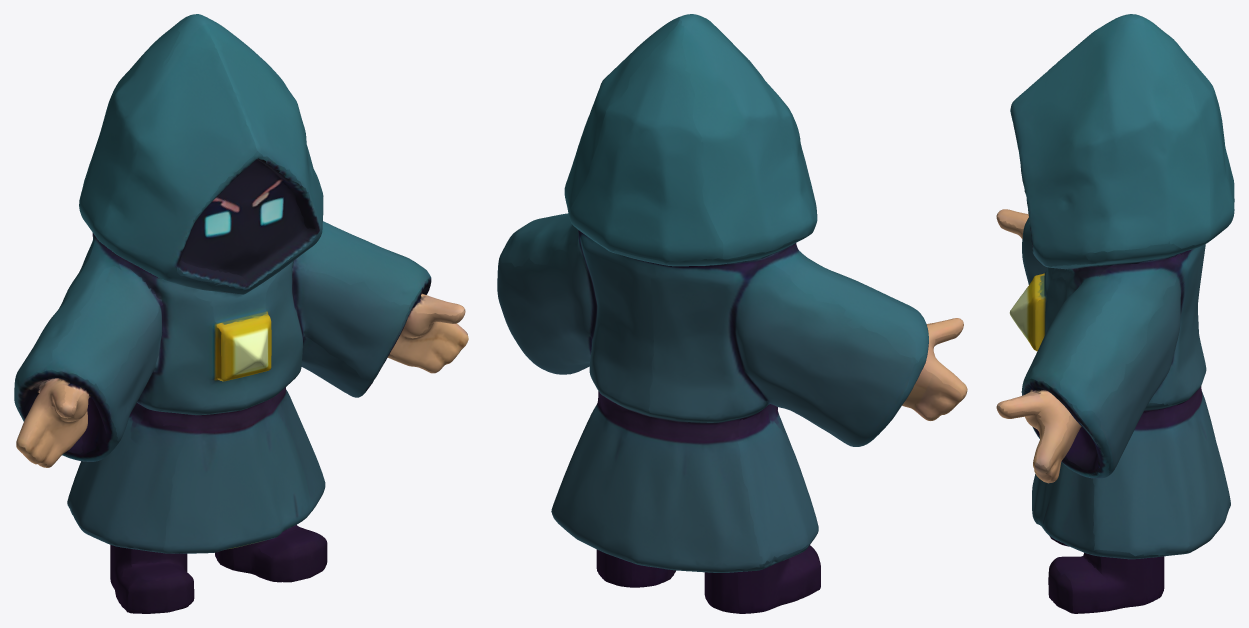
File: mage-voxel-mesh.glb
3 renders of one model, left to right at view 1: azimuth 30°, elevation 25°; view 2: azimuth 150°, elevation 25°; view 3: azimuth 270°, elevation 25°, orthographic. The views are drawn at different scales.
Visible parts, largest first — view 1: tmpeg7h5f6z.ply; view 2: tmpeg7h5f6z.ply; view 3: tmpeg7h5f6z.ply.
Boxes of the visible parts, box(x1,y1,x2,y2) form: tmpeg7h5f6z.ply: box(14, 14, 468, 613); tmpeg7h5f6z.ply: box(497, 14, 967, 613); tmpeg7h5f6z.ply: box(996, 14, 1234, 613).
Bounding box in the file's own units: 0.8425 × 0.988 × 0.3871.
Materials: 1 (1 with a texture image).
